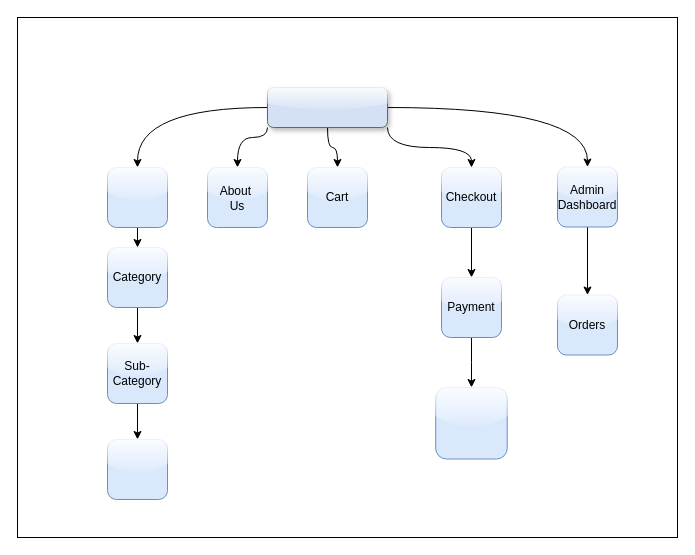
The diagram is 695 pixels wide and 555 high, and some of its shapes have lost their labels. The centre of each missing label's shape, as x and y in pixels:
"APP" belongs at (328,108).
"Confirmation" belongs at (471,422).
"Product Page" belongs at (137,469).
"Shop" belongs at (137,197).
